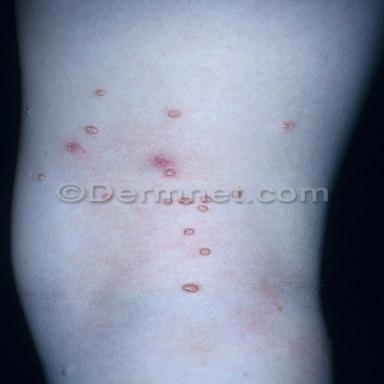Molluscum-Contagiosum: (167, 109, 181, 119), (183, 284, 199, 292), (199, 247, 211, 256), (85, 126, 98, 134), (164, 169, 176, 177), (183, 228, 195, 235), (95, 89, 105, 96), (198, 205, 209, 211), (37, 174, 45, 181), (282, 122, 290, 129)
